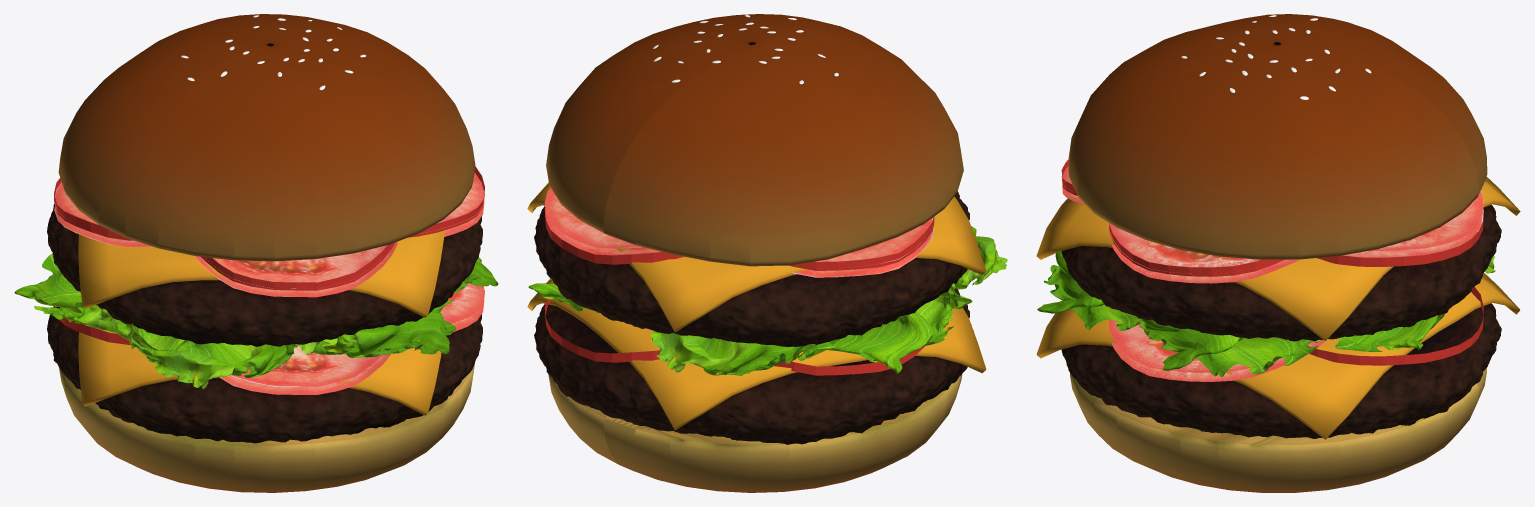
Rendered from burger.glb.
3 renders of one model, left to right at view 1: azimuth 30°, elevation 25°; view 2: azimuth 150°, elevation 25°; view 3: azimuth 270°, elevation 25°, orthographic.
Parts seen in each view (by area): view 1: Bun_30_3, Sphere_31_81, Plane_39_18, tomato.001_41_86, lettuce.004_37_11, lettuce.003_36_9, tomato.002_42_90, lettuce.005_38_13, tomato_40_98, lettuce.002_35_7; view 2: Bun_30_3, Sphere_31_81, Plane_39_18, tomato.003_43_94, lettuce.005_38_13, tomato_40_98, lettuce_33_15, lettuce.004_37_11, lettuce.001_34_5; view 3: Bun_30_3, Sphere_31_81, Plane_39_18, tomato.002_42_90, tomato.003_43_94, lettuce.002_35_7, lettuce.003_36_9, lettuce.001_34_5.
Part boxes in pixels (x1=…): Bun_30_3: x1=58, y1=14, x2=475, y2=492; Sphere_31_81: x1=47, y1=204, x2=482, y2=443; Plane_39_18: x1=78, y1=230, x2=444, y2=415; tomato.001_41_86: x1=194, y1=241, x2=397, y2=394; lettuce.004_37_11: x1=115, y1=322, x2=297, y2=389; lettuce.003_36_9: x1=295, y1=300, x2=456, y2=357; tomato.002_42_90: x1=408, y1=166, x2=484, y2=331; lettuce.005_38_13: x1=14, y1=253, x2=121, y2=333; tomato_40_98: x1=54, y1=178, x2=151, y2=344; lettuce.002_35_7: x1=453, y1=257, x2=498, y2=294; Bun_30_3: x1=546, y1=14, x2=963, y2=492; Sphere_31_81: x1=534, y1=191, x2=973, y2=444; Plane_39_18: x1=527, y1=182, x2=986, y2=429; tomato.003_43_94: x1=544, y1=188, x2=683, y2=362; lettuce.005_38_13: x1=816, y1=283, x2=972, y2=373; tomato_40_98: x1=774, y1=217, x2=934, y2=375; lettuce_33_15: x1=650, y1=331, x2=839, y2=375; lettuce.004_37_11: x1=955, y1=226, x2=1007, y2=289; lettuce.001_34_5: x1=528, y1=278, x2=599, y2=313; Bun_30_3: x1=1068, y1=14, x2=1487, y2=492; Sphere_31_81: x1=1061, y1=204, x2=1501, y2=438; Plane_39_18: x1=1036, y1=177, x2=1520, y2=439; tomato.002_42_90: x1=1109, y1=223, x2=1324, y2=381; tomato.003_43_94: x1=1308, y1=190, x2=1483, y2=365; lettuce.002_35_7: x1=1139, y1=318, x2=1320, y2=377; lettuce.003_36_9: x1=1037, y1=251, x2=1146, y2=330; lettuce.001_34_5: x1=1335, y1=313, x2=1444, y2=351.
Size of the model in its own units: 2.28 by 2.04 by 2.29.
7 materials, 4 textured.
